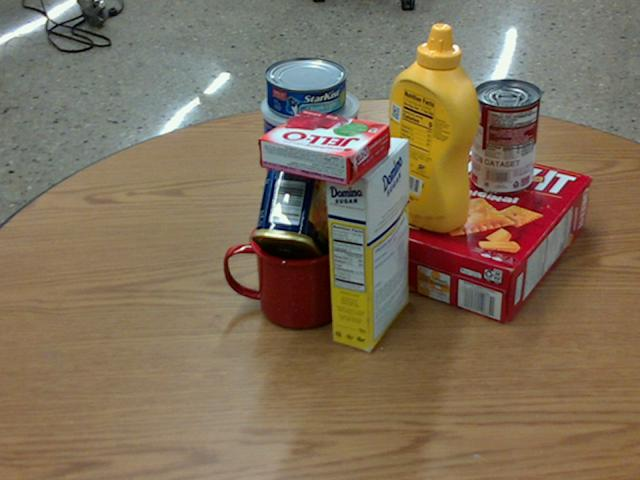cracker_box: (362, 143, 589, 323)
gelatin_box: (257, 108, 391, 186)
large_marker: (385, 106, 403, 206)
master_chef_can: (262, 83, 359, 240)
mug: (221, 211, 344, 328)
mustard_bottle: (382, 23, 479, 232)
potted_meat_can: (251, 147, 337, 267)
sugar_box: (323, 134, 407, 350)
tomato_soup_can: (469, 78, 540, 193)
tuna_fish_can: (264, 56, 346, 117)
